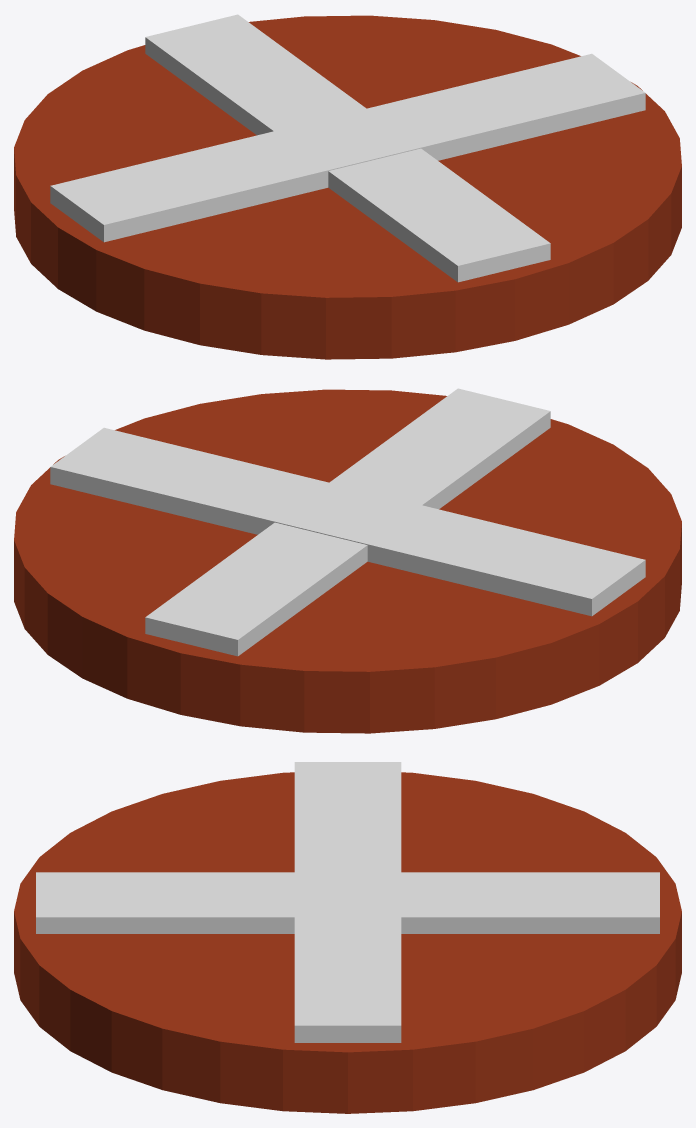
Rendered from coin2.glb.
The picture shows the model from 3 angles, top to bottom: view 1: azimuth 30°, elevation 25°; view 2: azimuth 150°, elevation 25°; view 3: azimuth 270°, elevation 25°; orthographic projection.
Visible parts, largest first — view 1: Cylinder, Cube.001, Cube; view 2: Cylinder, Cube.001, Cube; view 3: Cylinder, Cube, Cube.001.
Part boxes in pixels (x1,y1,x2,y2): Cylinder: [14, 15, 681, 359]; Cube.001: [50, 53, 645, 242]; Cube: [145, 14, 550, 282]; Cylinder: [14, 389, 681, 733]; Cube.001: [50, 427, 645, 616]; Cube: [145, 388, 550, 656]; Cylinder: [14, 772, 681, 1113]; Cube: [36, 872, 659, 933]; Cube.001: [294, 762, 401, 1042].
Size of the model in its own units: 2 by 0.2606 by 2.
